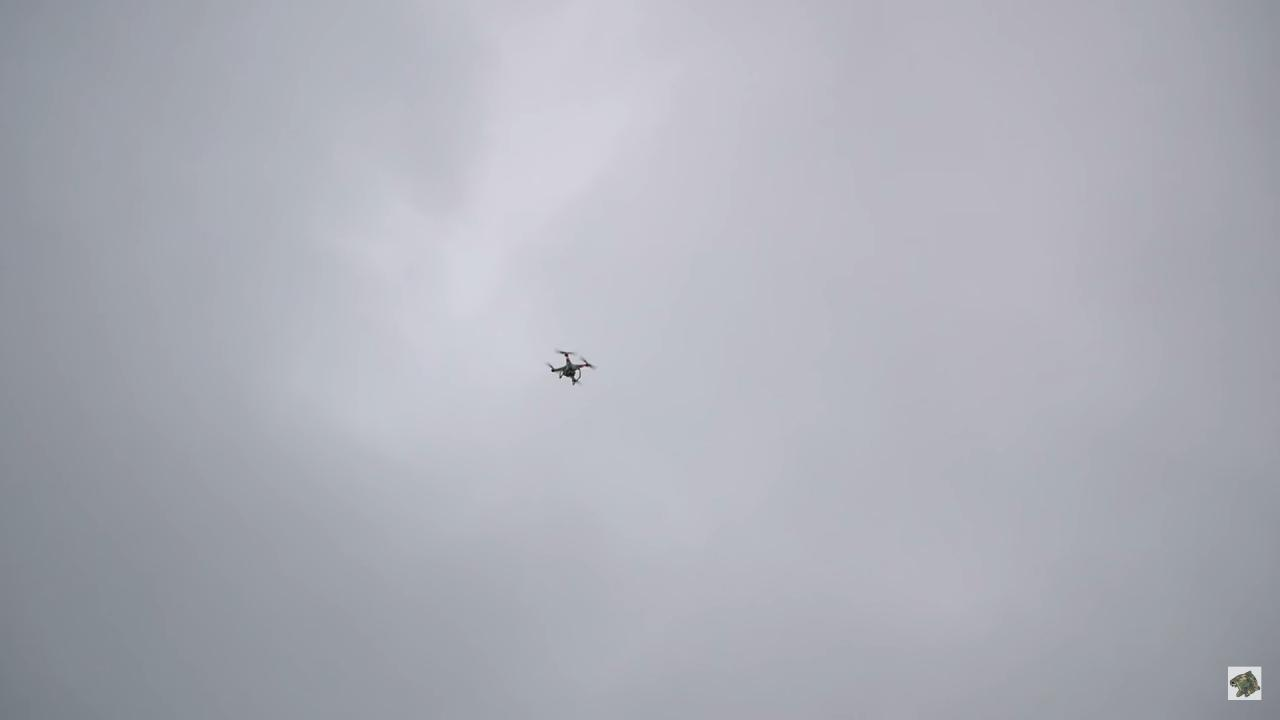Drone: (536, 342, 605, 396)
